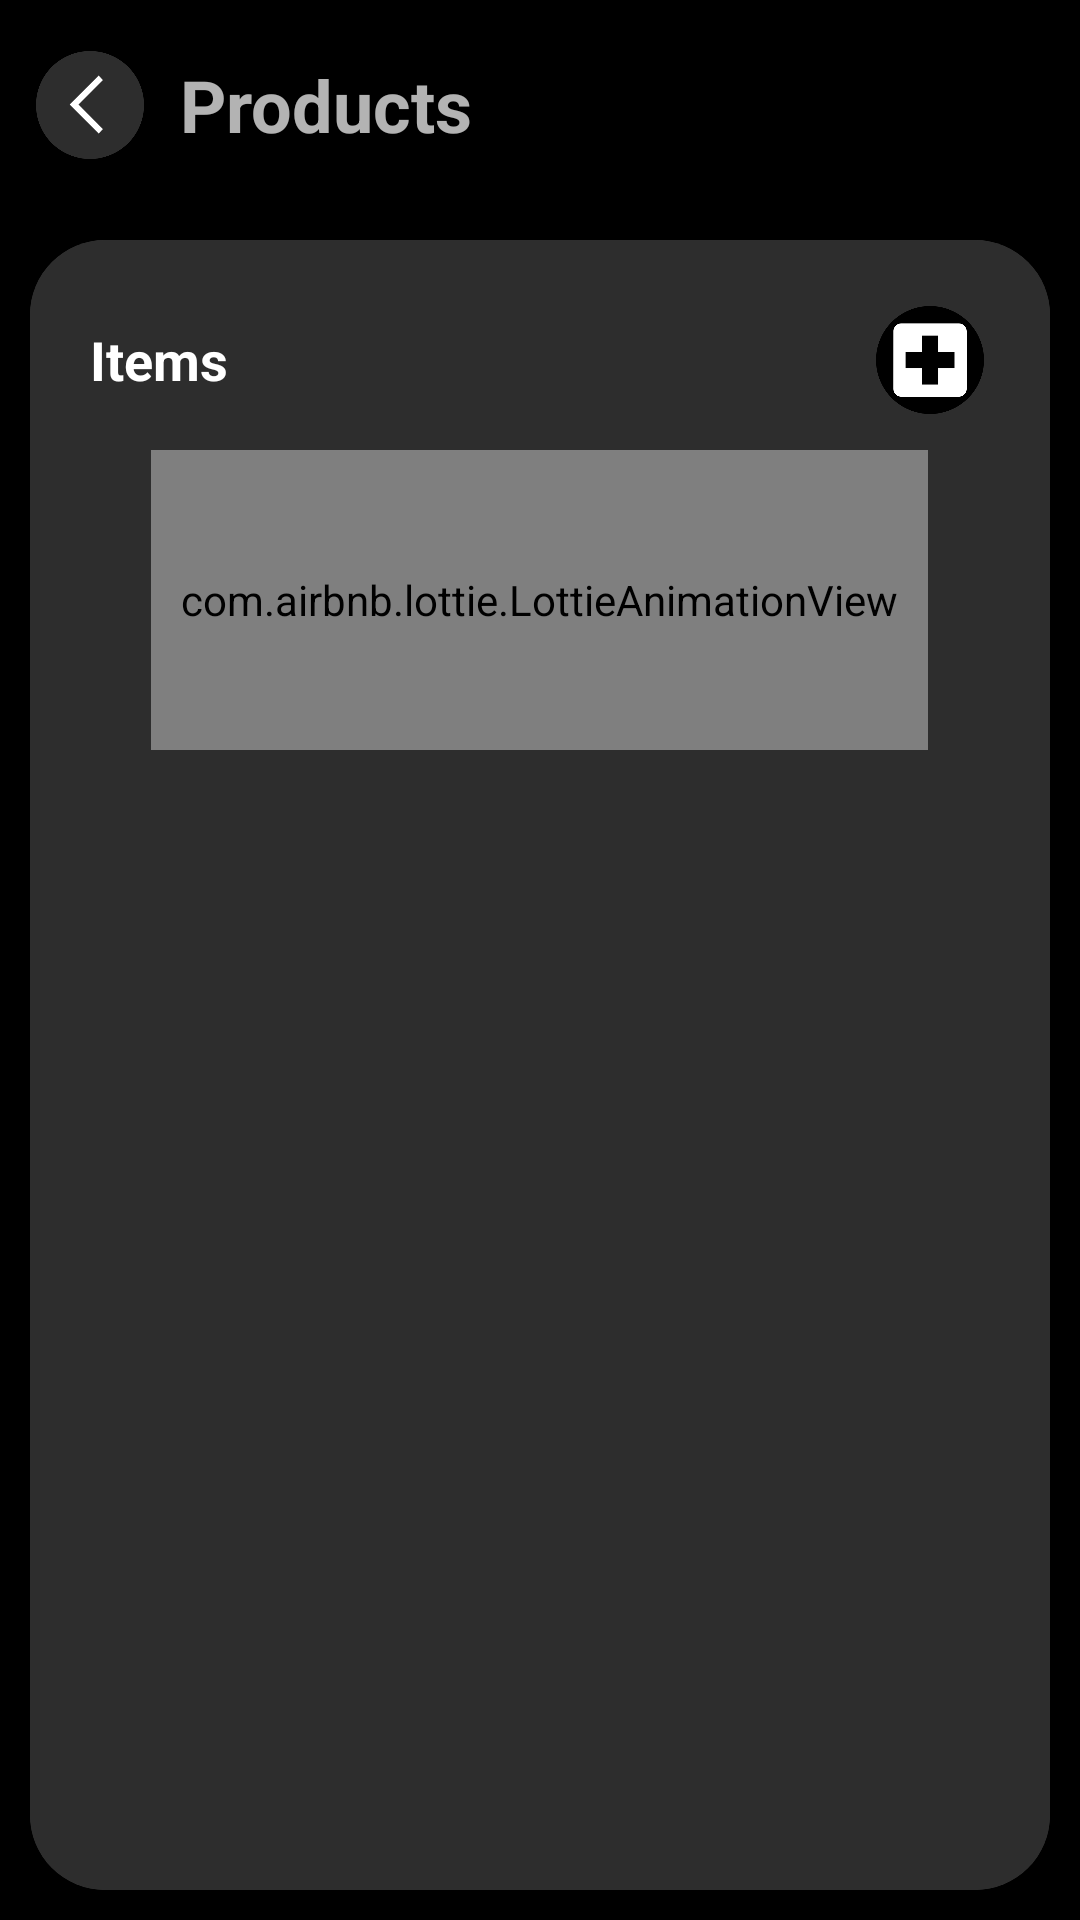

Icon bounding boxes for this 1080×1920 phone screenshot, format (x1, y1, x2, y2):
add: (876, 306, 984, 414)
back: (36, 51, 144, 159)
